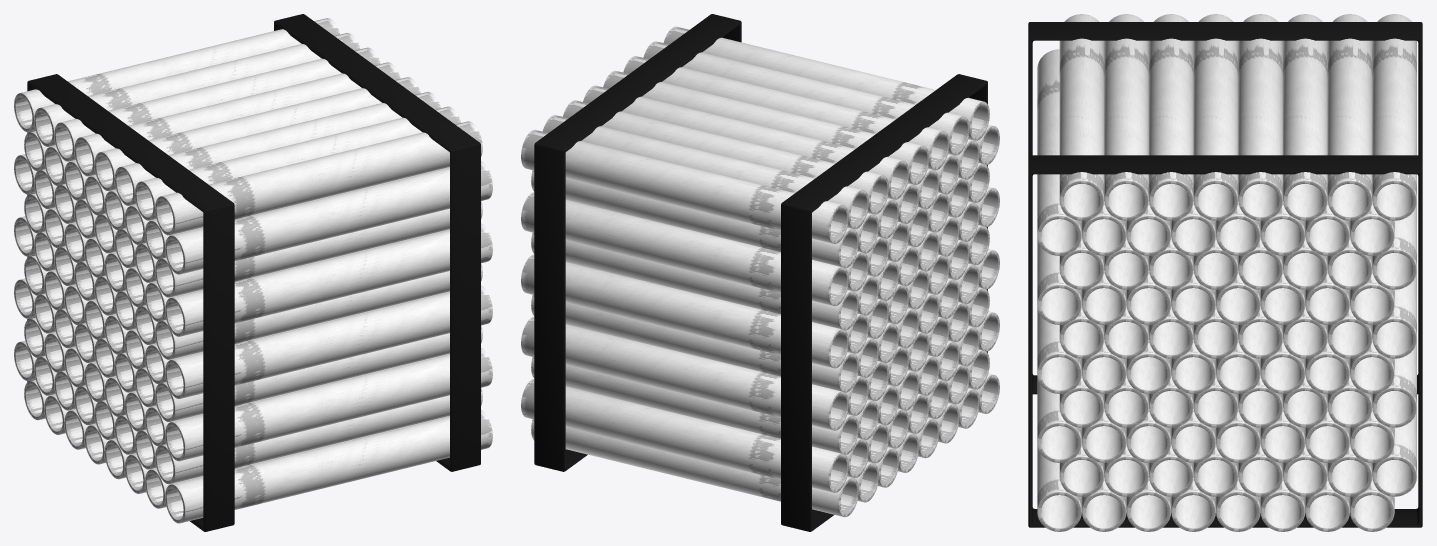
File: pipes_222.fbx
The picture shows the model from 3 angles, left to right: view 1: azimuth 30°, elevation 25°; view 2: azimuth 150°, elevation 25°; view 3: azimuth 270°, elevation 25°; orthographic projection. The views are drawn at different scales.
Visible parts, largest first — view 1: Cylinder.001, Cube.009; view 2: Cylinder.001, Cube.009; view 3: Cylinder.001, Cube.009.
Part boxes in pixels (x1,y1,x2,y2): Cylinder.001: (14, 18, 492, 523); Cube.009: (27, 14, 480, 531); Cylinder.001: (521, 26, 999, 517); Cube.009: (534, 14, 987, 531); Cylinder.001: (1037, 14, 1416, 531); Cube.009: (1028, 22, 1422, 527).
Bounding box in the file's own units: 200 × 200 × 200.
Materials: 2 (2 with a texture image).
